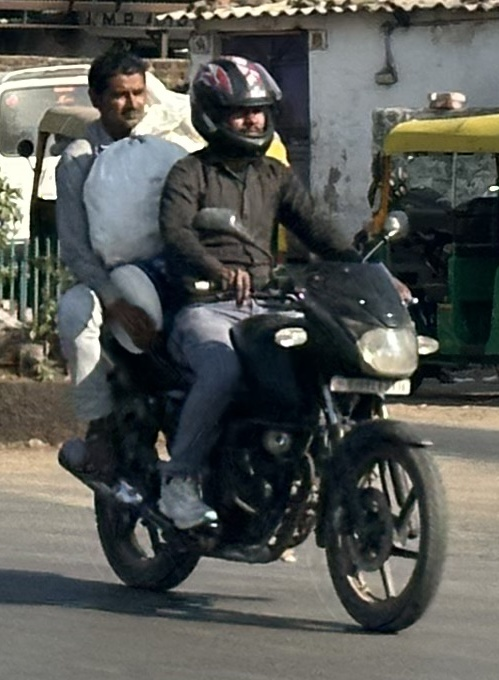BikeWithRider: (43, 36, 461, 640)
Helmet: (180, 49, 291, 162)
NoHelmet: (76, 42, 160, 141)
